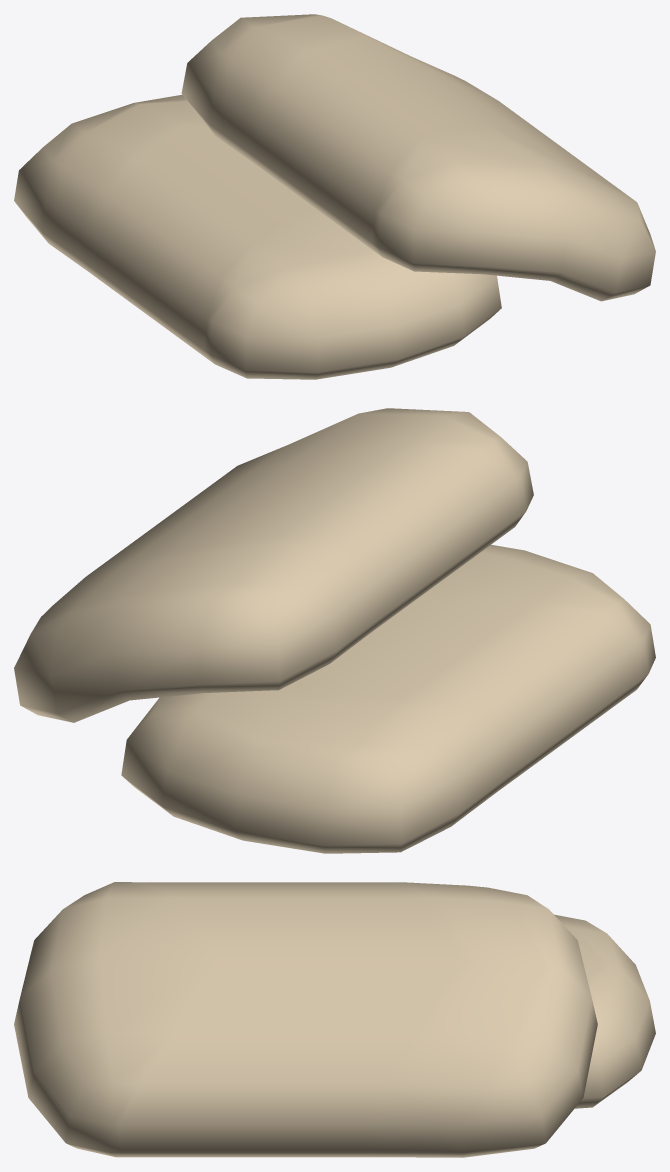
File: FoodIngredient_FishFillet.fbx
The picture shows the model from 3 angles, top to bottom: view 1: azimuth 30°, elevation 25°; view 2: azimuth 150°, elevation 25°; view 3: azimuth 270°, elevation 25°; orthographic projection. The views are drawn at different scales.
Visible parts, largest first — view 1: FoodIngredient_FishFillet; view 2: FoodIngredient_FishFillet; view 3: FoodIngredient_FishFillet.
Part boxes in pixels (x1=…): FoodIngredient_FishFillet: x1=14, y1=14, x2=655, y2=379; FoodIngredient_FishFillet: x1=14, y1=408, x2=655, y2=853; FoodIngredient_FishFillet: x1=14, y1=882, x2=655, y2=1157.
Bounding box in the file's own units: 66.22 × 27.96 × 86.08.
